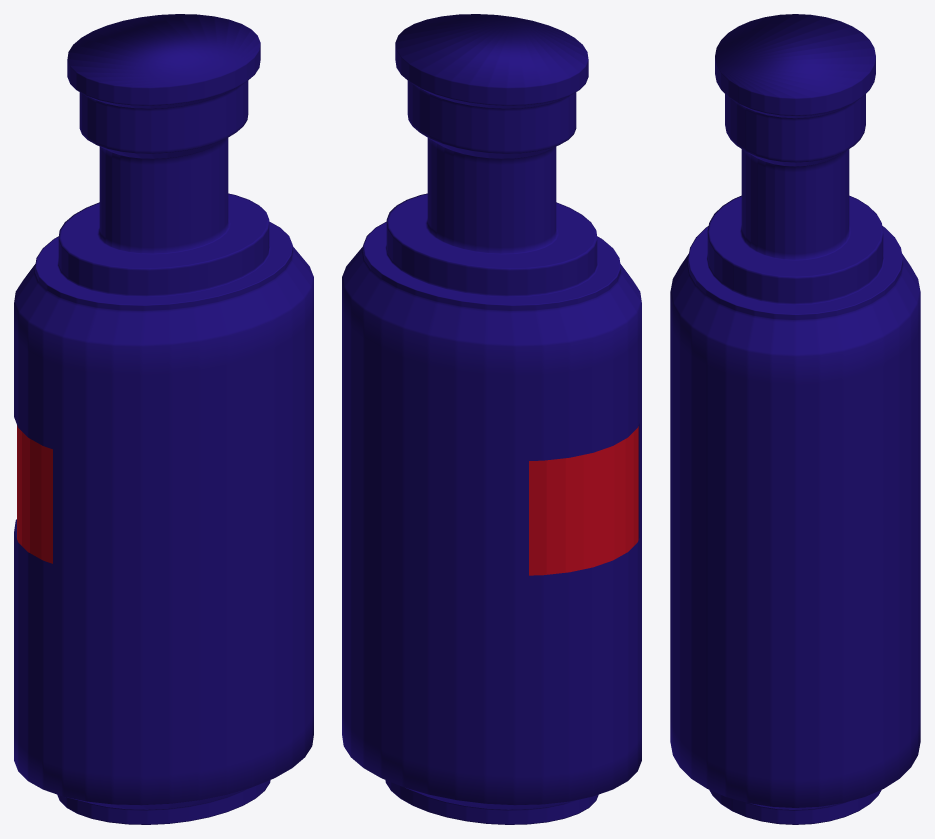
File: Med4.fbx
The picture shows the model from 3 angles, left to right: view 1: azimuth 30°, elevation 25°; view 2: azimuth 150°, elevation 25°; view 3: azimuth 270°, elevation 25°; orthographic projection.
Parts seen in each view (by area): view 1: Cylinder, Cylinder.001; view 2: Cylinder, Cylinder.001; view 3: Cylinder.
Part boxes in pixels (x1=…): Cylinder: x1=14, y1=14, x2=313, y2=824; Cylinder.001: x1=17, y1=425, x2=52, y2=563; Cylinder: x1=342, y1=14, x2=641, y2=824; Cylinder.001: x1=529, y1=426, x2=638, y2=575; Cylinder: x1=670, y1=14, x2=920, y2=824.
Bounding box in the file's own units: 0.0695 × 0.1792 × 0.0562.
